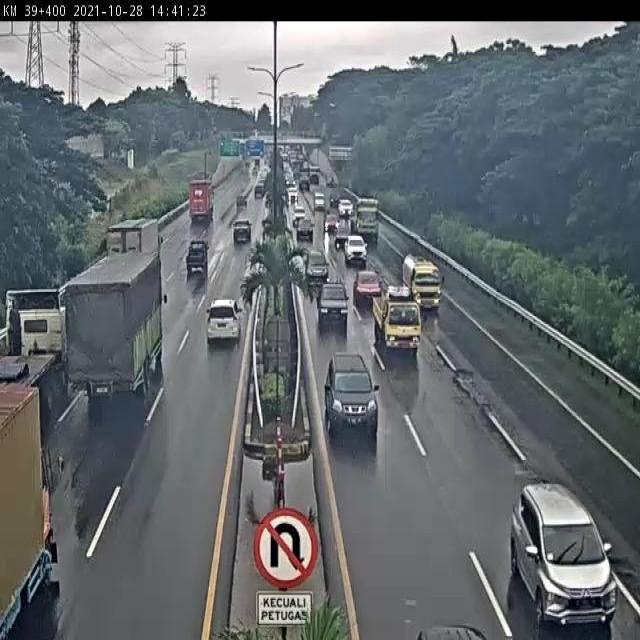big truck: (0, 287, 70, 417)
car: (508, 480, 618, 627), (323, 355, 379, 444), (205, 297, 242, 343), (317, 282, 348, 326), (353, 270, 382, 306), (303, 246, 330, 282), (185, 240, 209, 275), (343, 235, 368, 265)
mid truck: (63, 251, 168, 393), (105, 219, 164, 276)
truck-m-: (372, 282, 422, 354), (401, 252, 442, 309)
